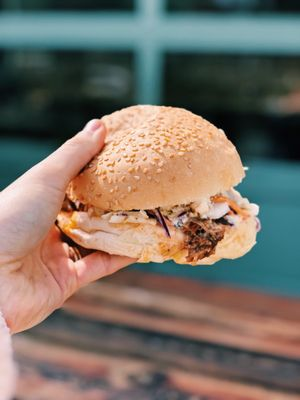soup: (56, 104, 261, 266)
